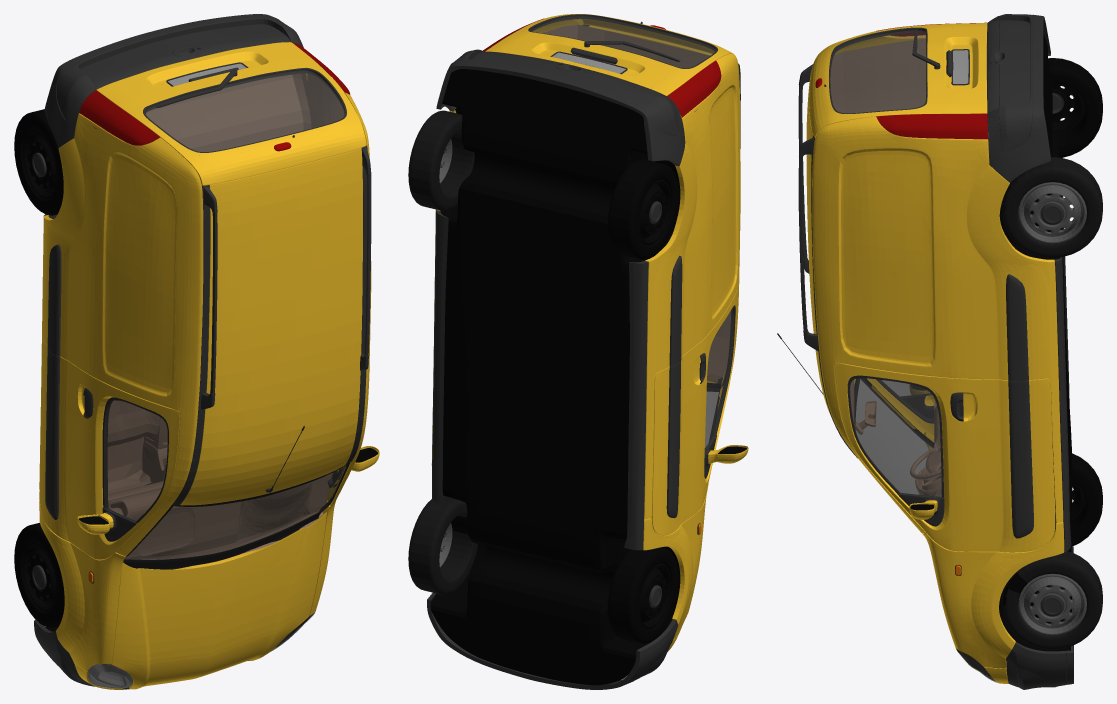
Rendered from Renault Kango.glb.
3 renders of one model, left to right at view 1: azimuth 30°, elevation 25°; view 2: azimuth 150°, elevation 25°; view 3: azimuth 270°, elevation 25°, orthographic. The views are drawn at different scales.
Parts seen in each view (by area): view 1: Node3, Node4, Node1, Node8, Node11, Node2, Node10, Node6, Node7, Node5, Node9; view 2: Node8, Node4, Node3, Node6, Node5, Node2, Node7, Node11, Node1; view 3: Node2, Node1, Node8, Node5, Node11, Node6, Node7, Node4, Node3, Node10.
Boxes of the visible parts, x1,y1,x2,y2 form: Node3: (39, 28, 289, 689); Node4: (39, 58, 304, 583); Node1: (165, 15, 370, 676); Node8: (34, 67, 379, 671); Node11: (79, 42, 350, 558); Node2: (39, 14, 371, 671); Node10: (107, 401, 332, 566); Node6: (14, 62, 248, 686); Node7: (34, 17, 345, 684); Node5: (123, 146, 371, 689); Node9: (87, 613, 314, 688); Node8: (427, 14, 748, 689); Node4: (570, 21, 740, 535); Node3: (548, 27, 740, 651); Node6: (451, 51, 678, 676); Node5: (408, 24, 740, 680); Node2: (432, 14, 708, 639); Node7: (427, 50, 735, 689); Node11: (483, 18, 730, 382); Node1: (431, 16, 662, 503); Node2: (809, 60, 1055, 552); Node1: (806, 52, 1071, 683); Node8: (829, 27, 1073, 686); Node5: (798, 64, 1102, 649); Node11: (830, 22, 989, 496); Node6: (951, 49, 1102, 689); Node7: (847, 14, 1073, 687); Node4: (777, 23, 1052, 675); Node3: (806, 14, 1069, 449); Node10: (854, 401, 1052, 496).
Bounding box in the file's own units: 0.0484 × 0.1 × 0.0484.
